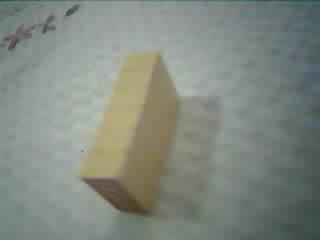lego: (77, 50, 179, 215)
